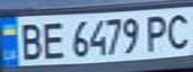4: (87, 16, 109, 56)
6: (66, 17, 90, 59)
7: (103, 16, 124, 56)
9: (121, 13, 145, 55)
B: (12, 20, 45, 62)
C: (163, 10, 193, 51)
E: (36, 19, 69, 61)
P: (142, 11, 172, 53)
